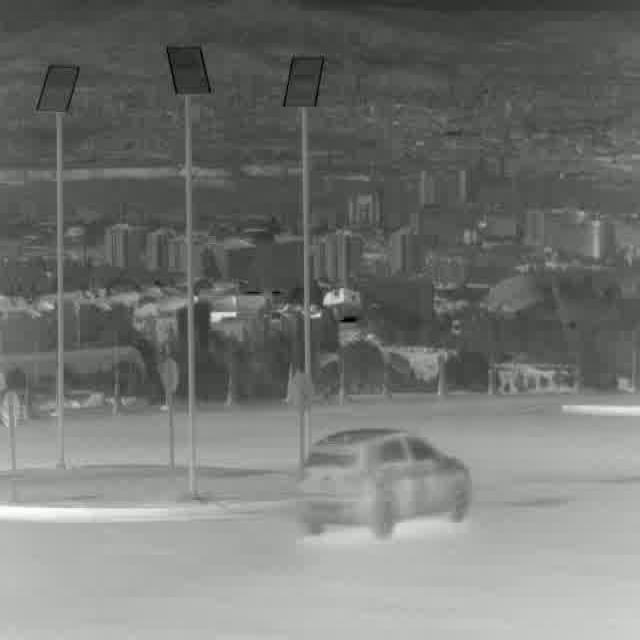Car: (296, 428, 470, 540)
